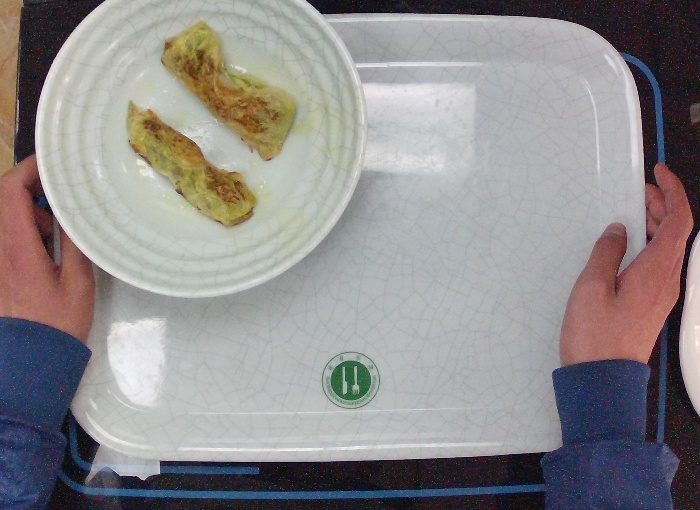JYsf-Da_Tang_Wan: (32, 4, 365, 299)
